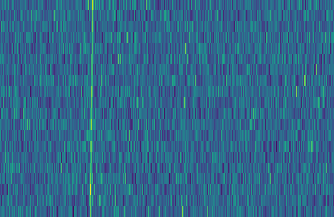signal: (83, 0, 94, 217)
